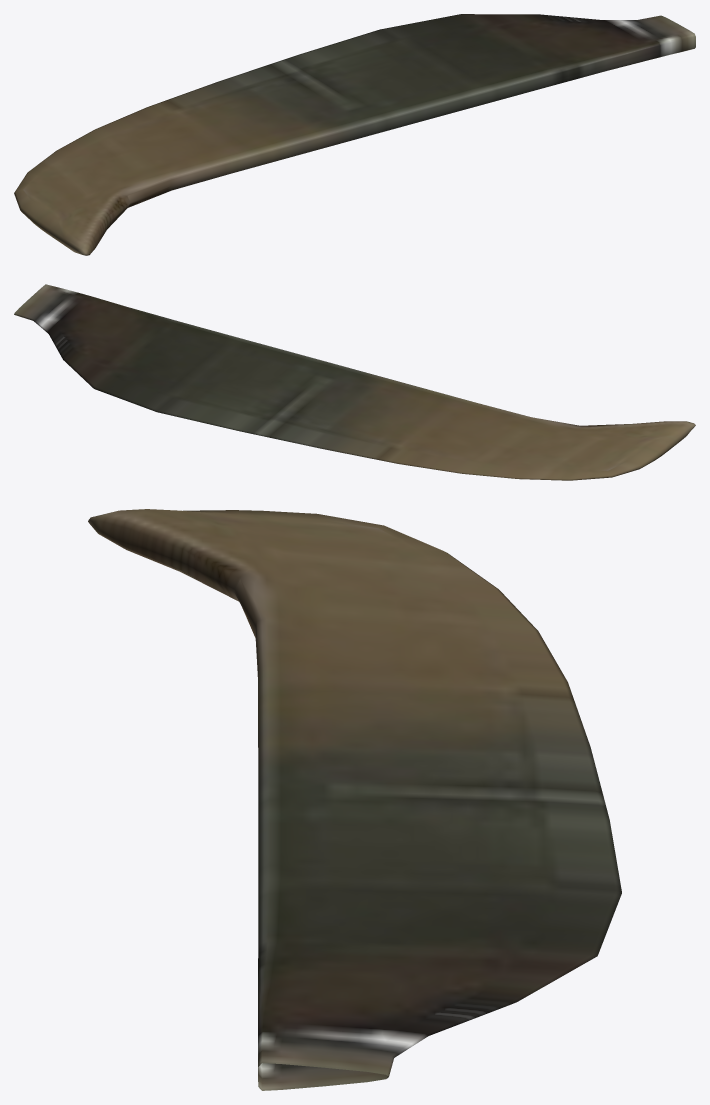
Rendered from backwing_right.obj.
3 renders of one model, top to bottom at view 1: azimuth 30°, elevation 25°; view 2: azimuth 150°, elevation 25°; view 3: azimuth 270°, elevation 25°, orthographic. The views are drawn at different scales.
Visible parts, largest first — view 1: SF_Backwing.003_Plane.015; view 2: SF_Backwing.003_Plane.015; view 3: SF_Backwing.003_Plane.015.
Part boxes in pixels (x1,y1,x2,y2): SF_Backwing.003_Plane.015: [14, 14, 695, 255]; SF_Backwing.003_Plane.015: [14, 284, 695, 480]; SF_Backwing.003_Plane.015: [88, 509, 621, 1090].
Bounding box in the file's own units: 1.25 × 0.0608 × 0.4719.
1 material, 1 textured.
